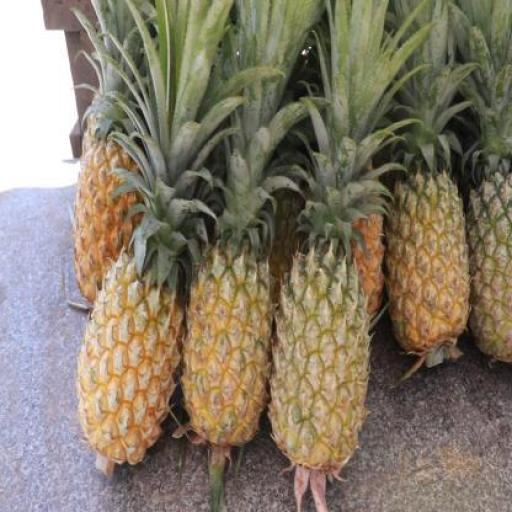------------------------------: (268, 260, 366, 464)
Pineapple - v8 v1: (74, 247, 181, 458), (181, 254, 273, 450), (387, 175, 468, 353), (71, 119, 148, 306)
